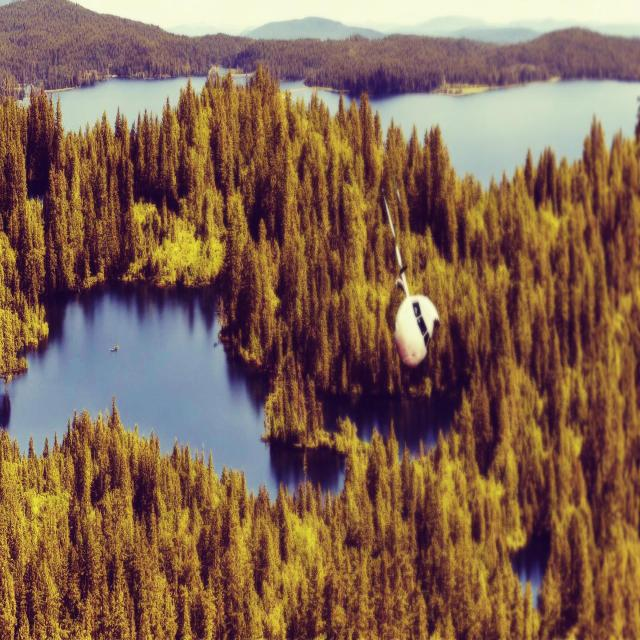airplane: (382, 190, 440, 368)
